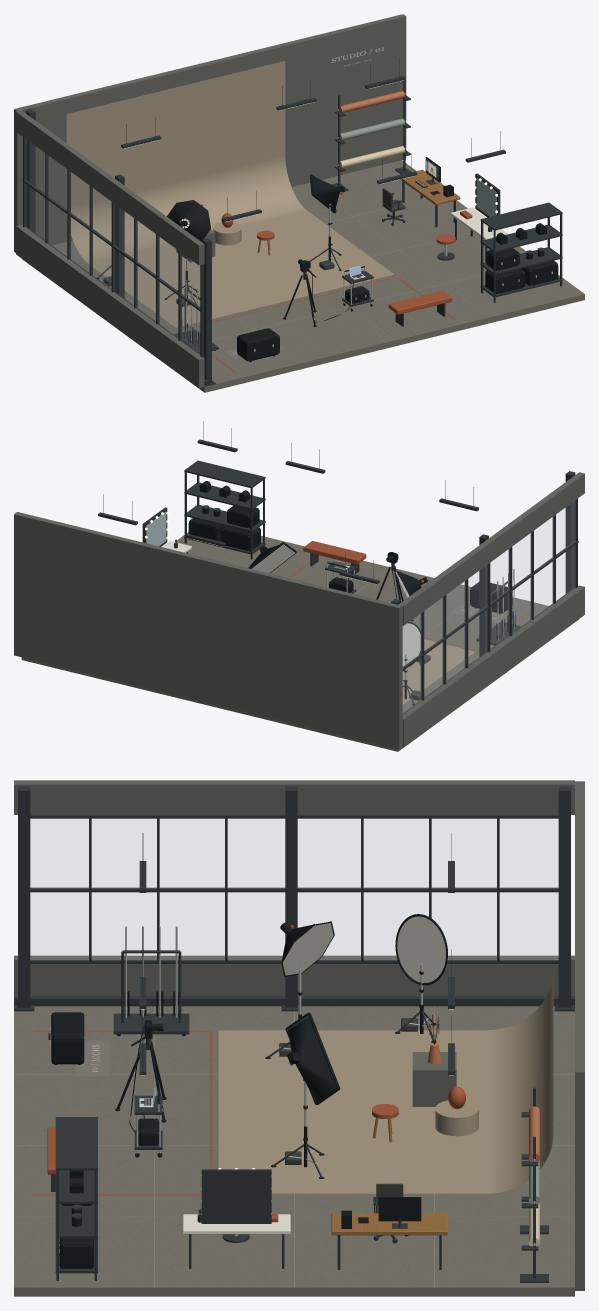
The model's file is studio.glb.
3 renders of one model, top to bottom at view 1: azimuth 30°, elevation 25°; view 2: azimuth 150°, elevation 25°; view 3: azimuth 270°, elevation 25°, orthographic. The views are drawn at different scales.
Parts seen in each view (by area): view 1: ContinuousCyclorama_72, ConcreteSlab_1, BackWall_8, WindowGlass_11, WindowSillWall_9, WindowHeadWall_10, Graphic_79, SteelColumn_28, CaseShell_442, RackShelf_371, OctaboxShell_119, SteelColumn_26 (+16 smaller); view 2: BackWall_8, WindowGlass_11, ConcreteSlab_1, WindowSillWall_9, WindowHeadWall_10, ContinuousCyclorama_72, RackShelf_371, SteelColumn_28, RackShelf_370, WindowTransom_22, BenchCushion_462, CaseShell_372 (+13 smaller); view 3: ConcreteSlab_1, WindowGlass_11, ContinuousCyclorama_72, WindowHeadWall_10, WindowSillWall_9, WindowSkirting_30, BackWall_8, MirrorFrame_336, WindowTransom_22, SteelColumn_24, SteelColumn_28, WindowTransom_23 (+17 smaller).
Part boxes in pixels (box(x1,y1,x2,y2)): ContinuousCyclorama_72: box(66, 61, 394, 327); ConcreteSlab_1: box(22, 160, 584, 392); BackWall_8: box(14, 14, 406, 252); WindowGlass_11: box(25, 139, 199, 354); WindowSillWall_9: box(16, 225, 204, 388); WindowHeadWall_10: box(16, 110, 204, 265); Graphic_79: box(326, 38, 389, 75); SteelColumn_28: box(202, 238, 211, 383); CaseShell_442: box(237, 328, 279, 361); RackShelf_371: box(480, 202, 562, 230); OctaboxShell_119: box(167, 200, 210, 241); SteelColumn_26: box(115, 174, 124, 298); BackWall_8: box(14, 512, 402, 749); WindowGlass_11: box(403, 501, 575, 713); ConcreteSlab_1: box(21, 532, 578, 751); WindowSillWall_9: box(402, 585, 584, 747); WindowHeadWall_10: box(398, 472, 584, 625); ContinuousCyclorama_72: box(402, 639, 474, 704); RackShelf_371: box(184, 460, 265, 488); SteelColumn_28: box(565, 471, 575, 593); RackShelf_370: box(184, 482, 265, 509); WindowTransom_22: box(402, 541, 578, 670); BenchCushion_462: box(303, 541, 366, 564); CaseShell_372: box(221, 526, 260, 551); ConcreteSlab_1: box(14, 1006, 574, 1296); WindowGlass_11: box(30, 819, 558, 959); ContinuousCyclorama_72: box(218, 972, 553, 1193); WindowHeadWall_10: box(14, 780, 574, 814); WindowSillWall_9: box(14, 955, 574, 996); WindowSkirting_30: box(14, 996, 574, 1006); BackWall_8: box(575, 781, 584, 1290); MirrorFrame_336: box(201, 1169, 271, 1223); WindowTransom_22: box(30, 887, 558, 892); SteelColumn_24: box(558, 786, 570, 1007); SteelColumn_28: box(18, 786, 30, 1007); WindowTransom_23: box(30, 814, 558, 818).
Size of the model in its own units: 12.32 by 4.48 by 10.18.
32 materials, 7 textured.
